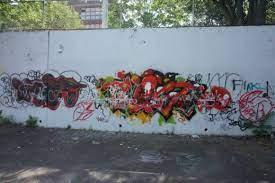graffiti: (95, 71, 202, 121), (0, 72, 85, 105), (230, 73, 275, 133), (203, 83, 230, 119), (70, 102, 101, 122)
